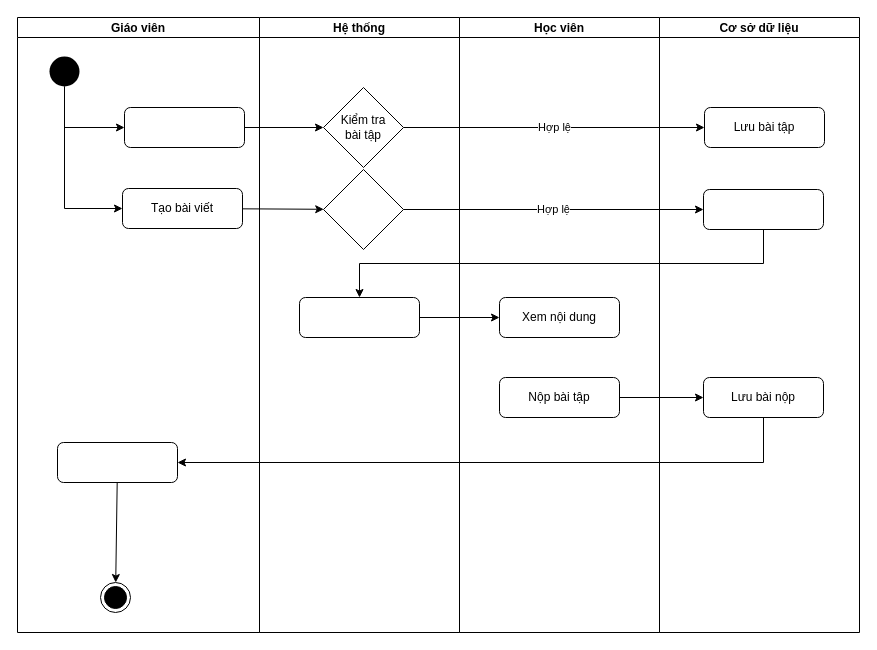
The diagram is 877 pixels wide and 650 high, and some of its shapes have lost their labels. The shapes that lost their labels are listed below. From the top down, each one's centre as x and y in pixels, then its label:
the point at 184,127: Tạo bài tập
the point at 363,209: Kiểm tra bài viết
the point at 763,209: Lưu bài đăng
the point at 359,317: Thông báo cho học viên
the point at 117,462: Xem xét bài nộp
